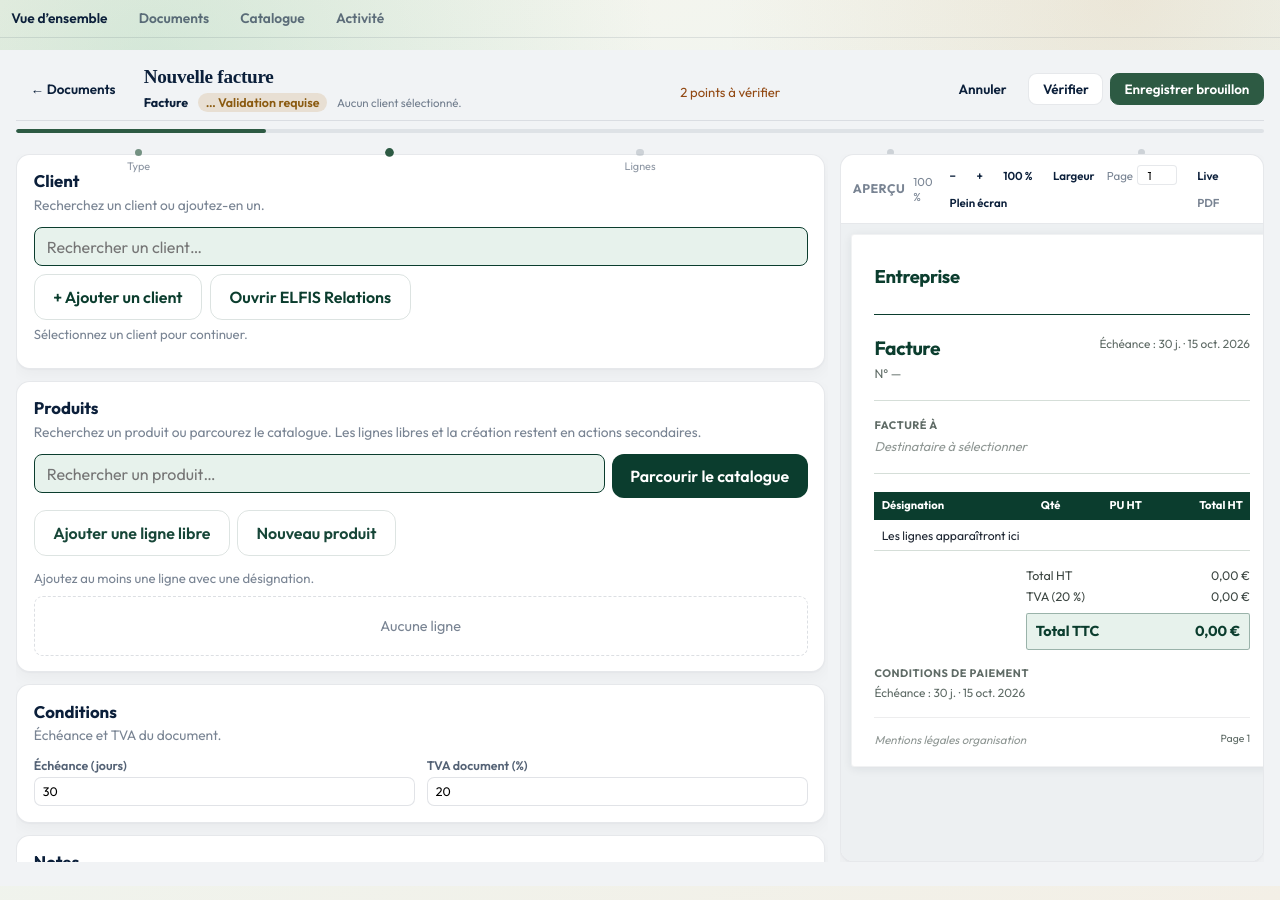
Scenario: FF31–FF40 Exit, persist, a11y › FF31 — confirm exit si dirty
The image size is (1280, 900).
Click the button "Ajouter une ligne libre" at (132, 533), box [34,510,230,556]
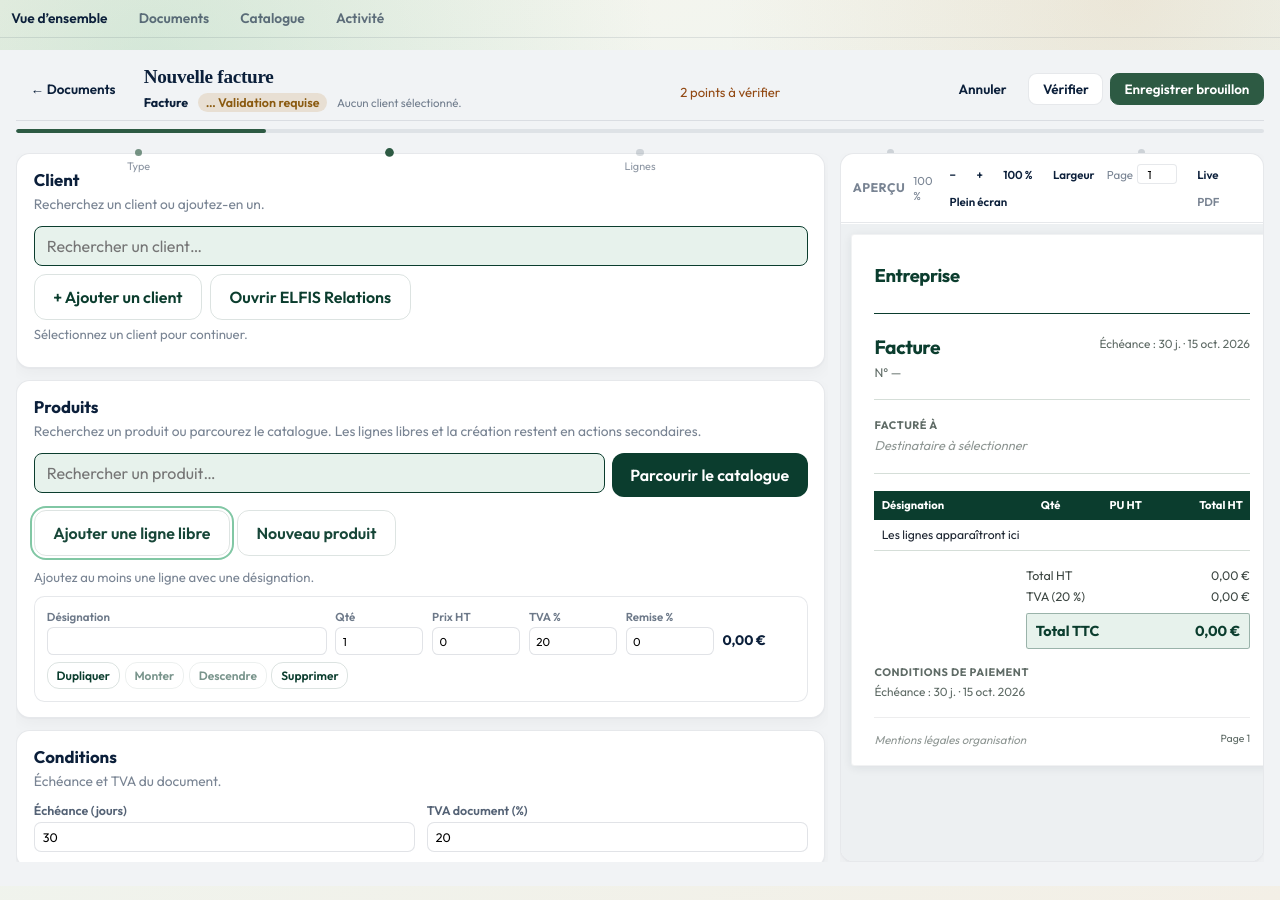
Type "Presta" into the field named "libellé ligne 1" at (187, 641), box [47,627,326,655]
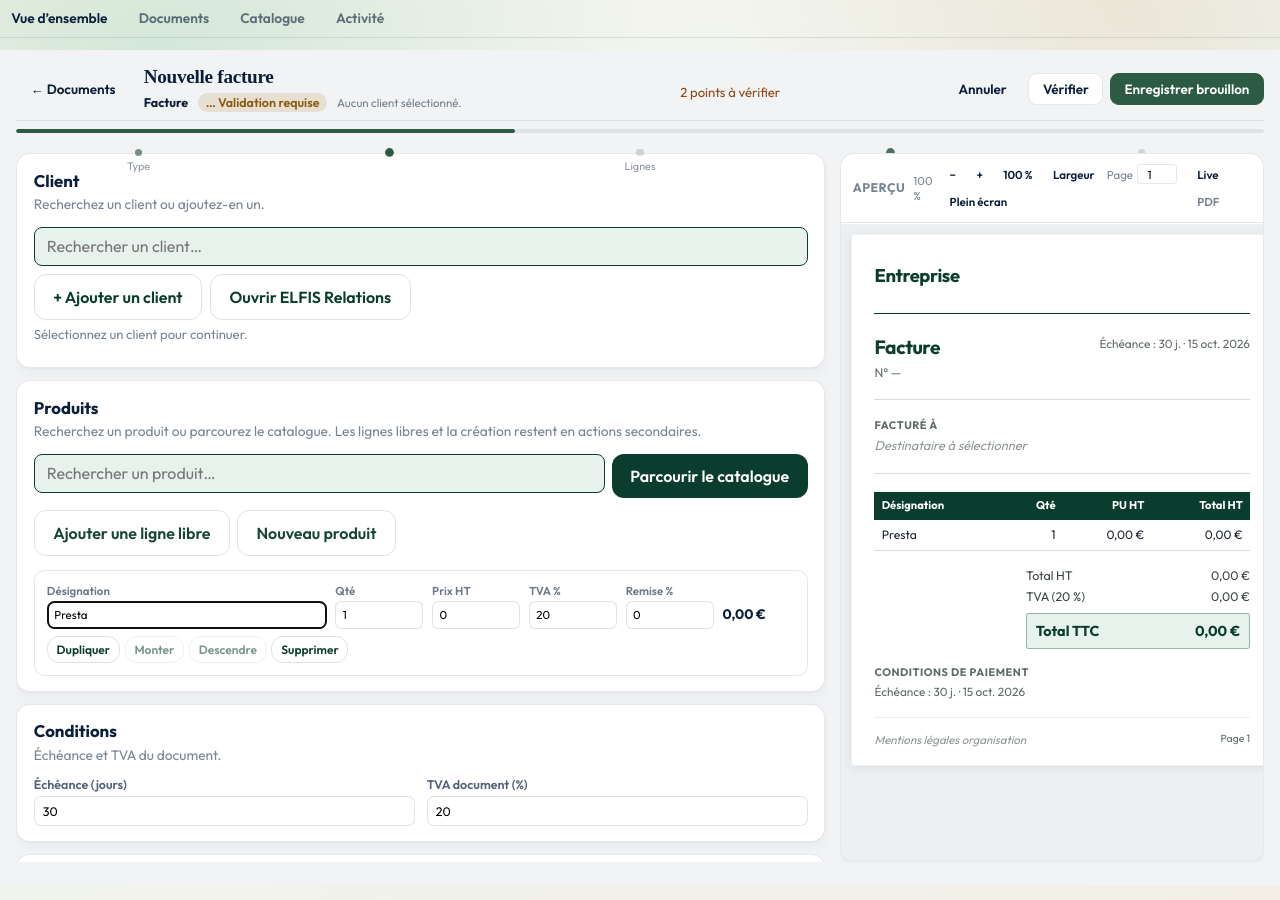
Click the button "Annuler" at (983, 89), box [944,73,1021,105]
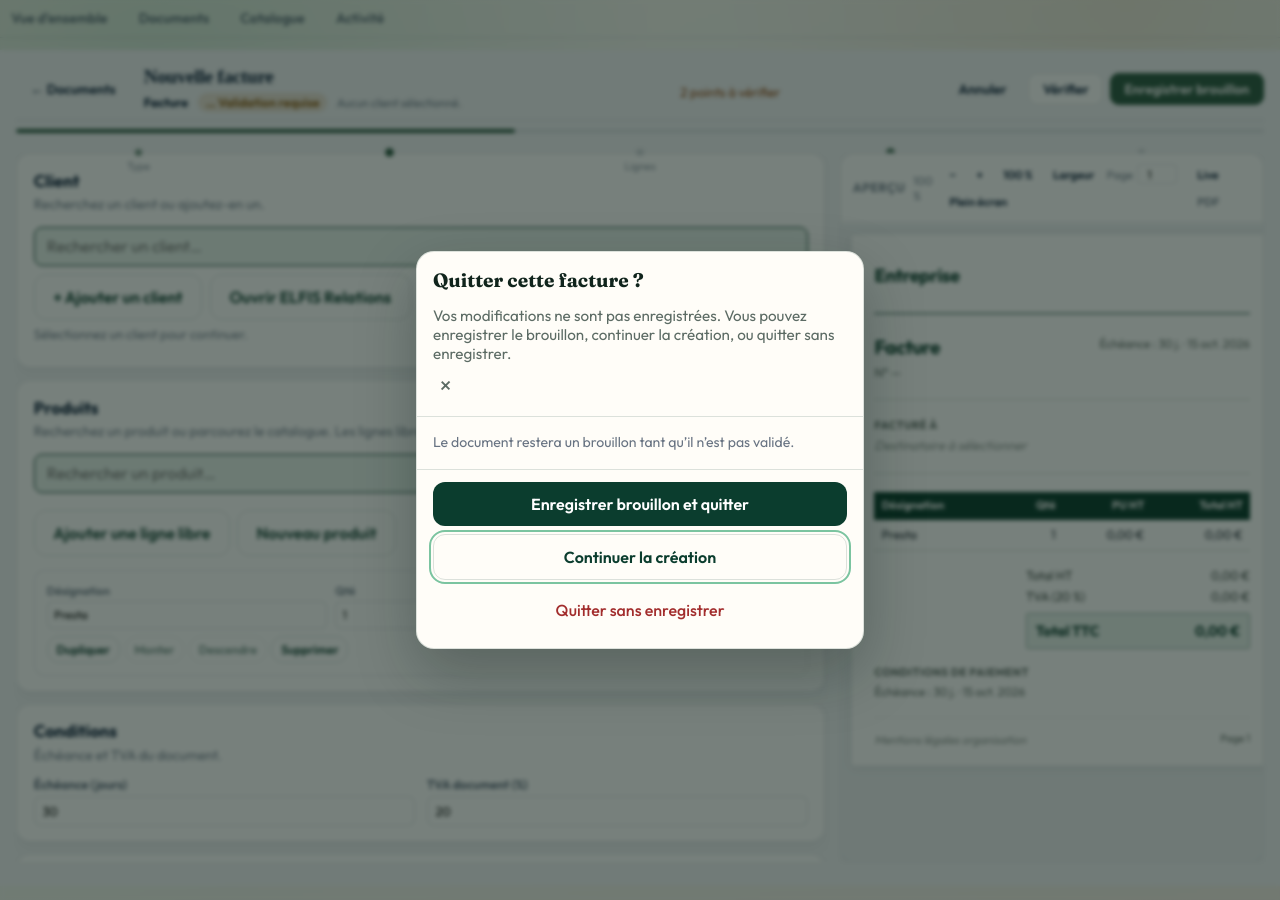
Now the heading "Quitter cette facture ?" is shown, box [433,268,676,292]
